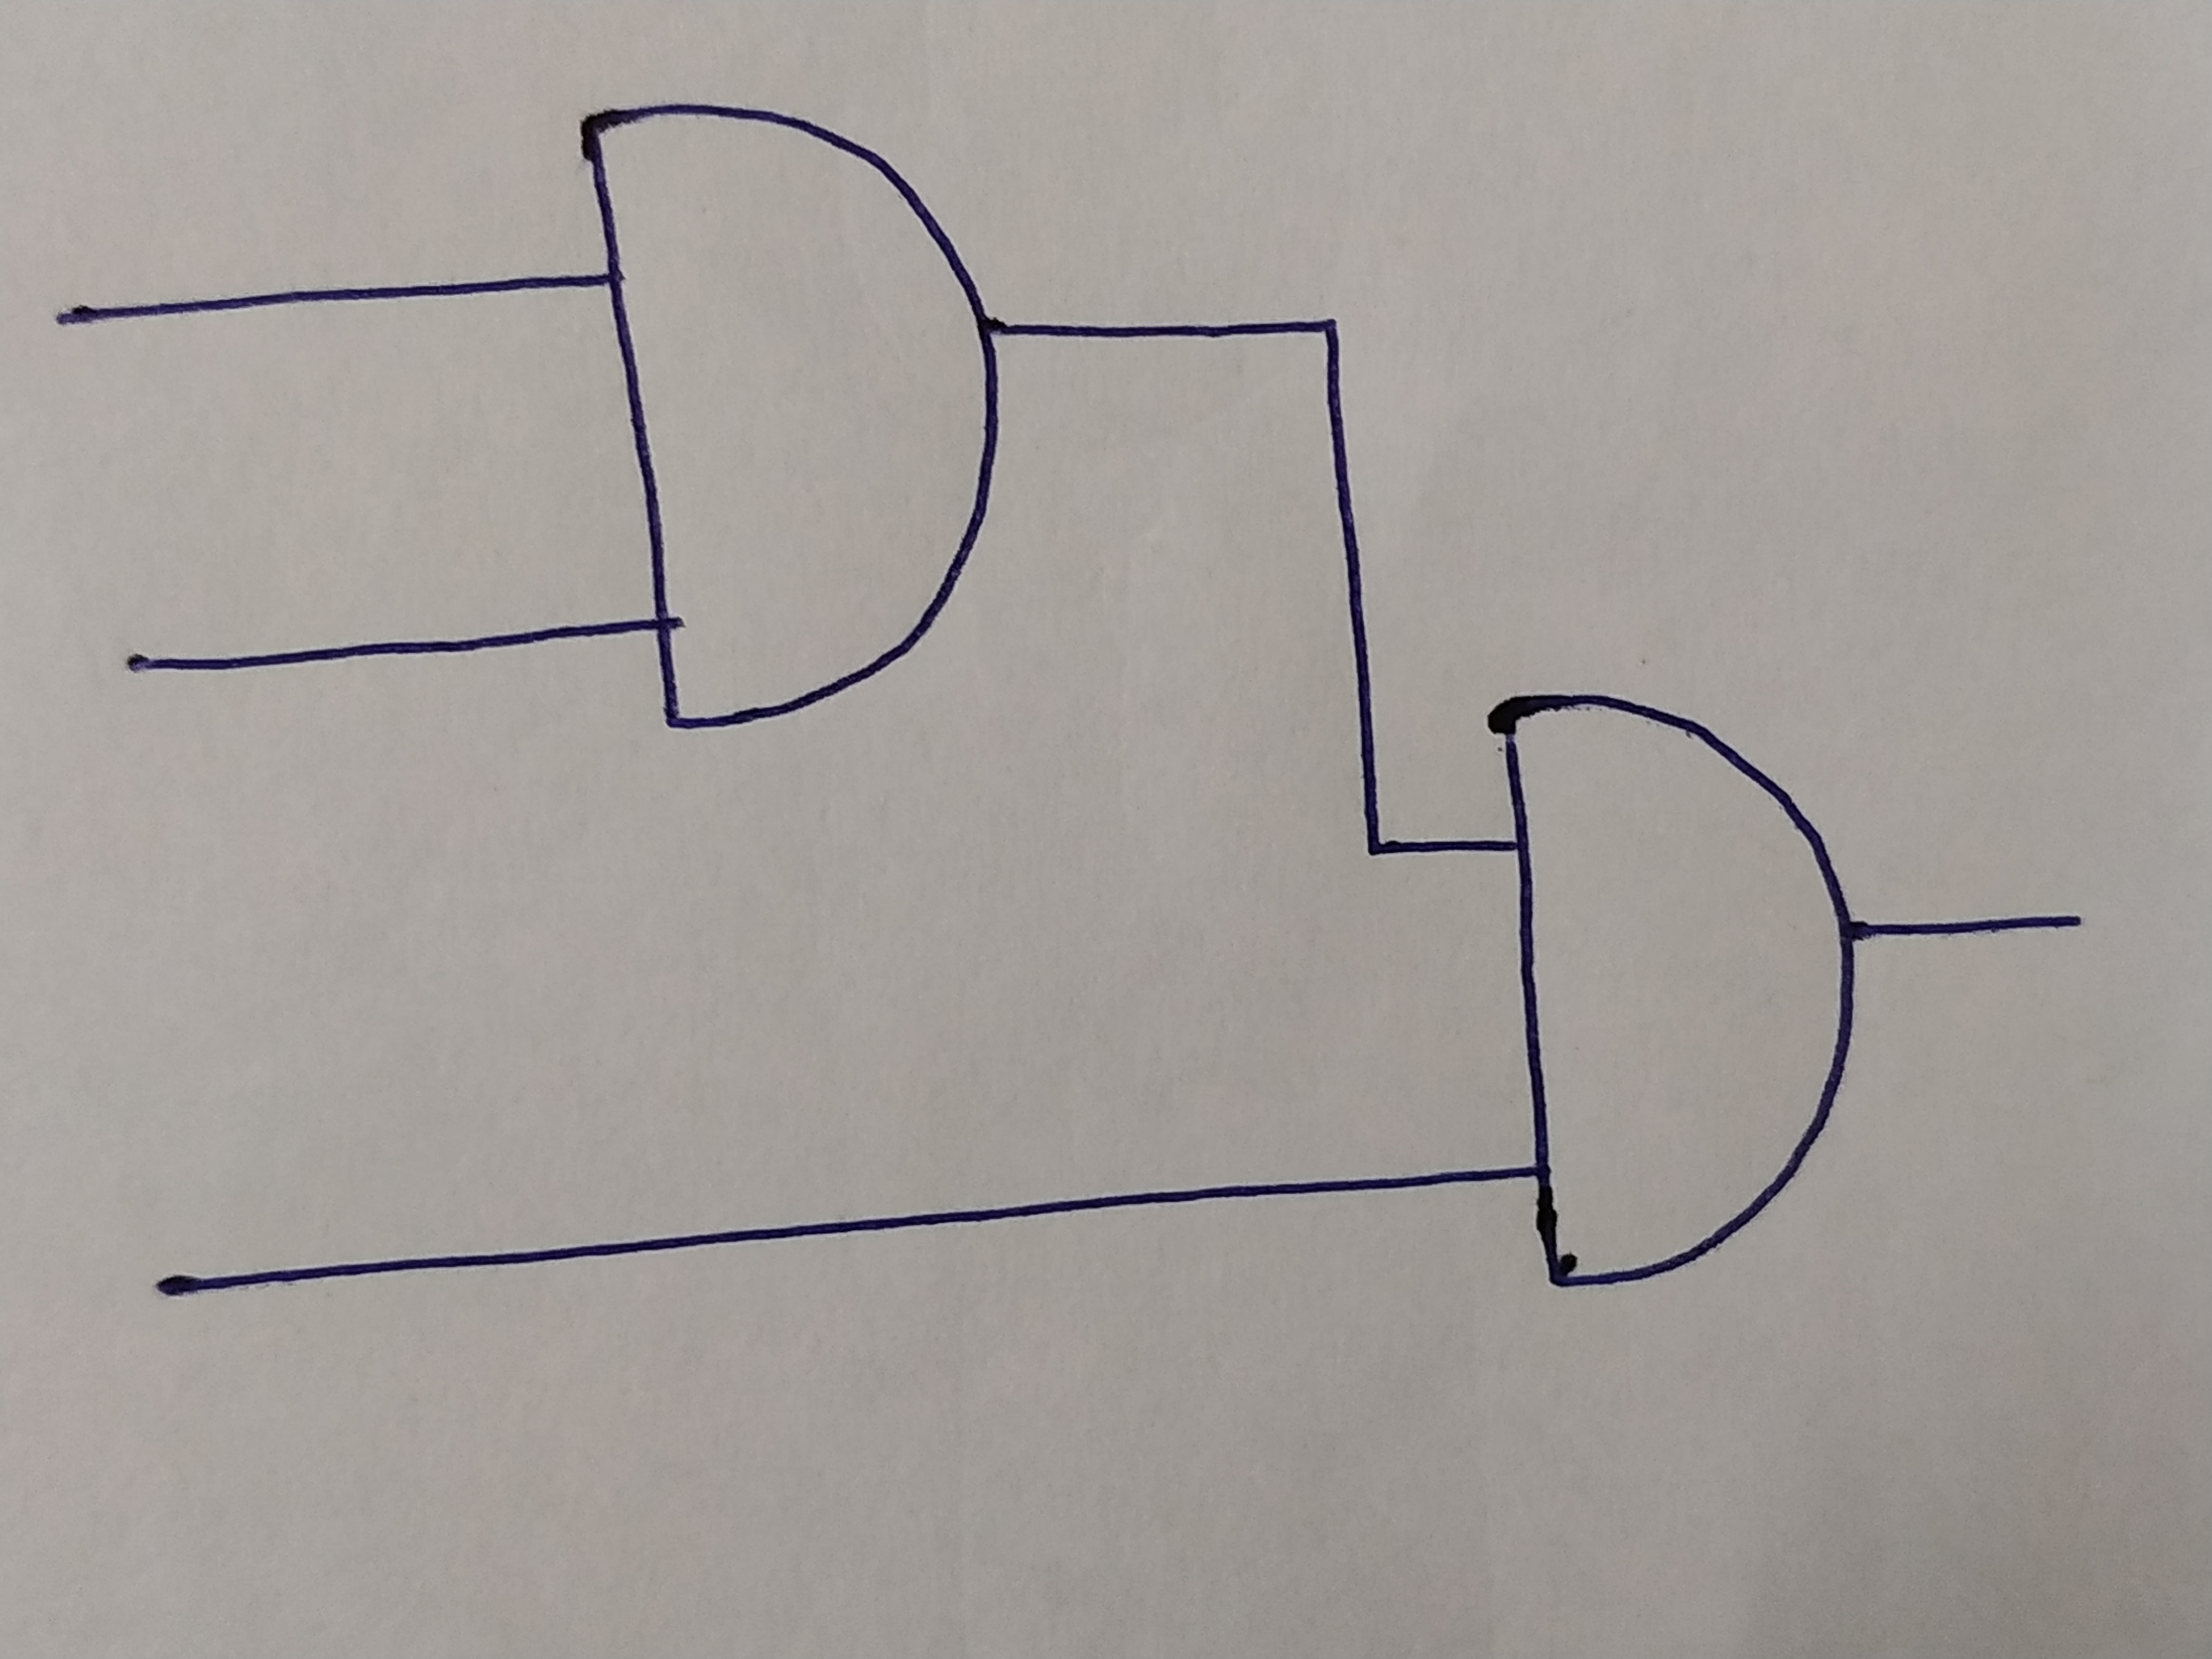and: (577, 106, 1000, 732), (1503, 697, 1844, 1281)
